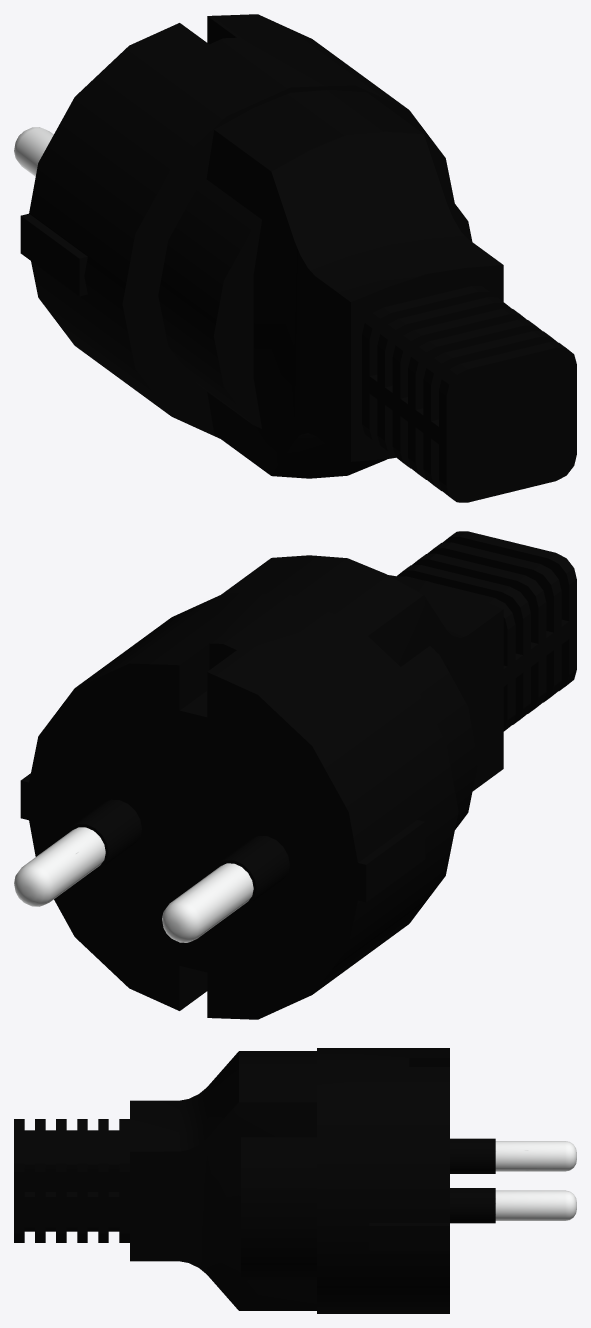
The model's file is Kabel Power1.fbx.
3 views of the same model, one above another, from view 1: azimuth 30°, elevation 25°; view 2: azimuth 150°, elevation 25°; view 3: azimuth 270°, elevation 25° (orthographic). The views are drawn at different scales.
Visible parts, largest first — view 1: Plane, Cylinder, Cube, Cylinder.002, Cube.003, Cylinder.001; view 2: Cylinder, Plane, Cube, Cylinder.001, Cylinder.002, Cube.003; view 3: Cylinder, Plane, Cube, Cylinder.002, Cylinder.001, Cube.003.
Part boxes in pixels (box(x1,y1,x2,y2)): Plane: box(206, 90, 503, 478); Cylinder: box(29, 14, 454, 438); Cube: box(362, 286, 576, 502); Cylinder.002: box(158, 179, 472, 428); Cube.003: box(20, 213, 87, 296); Cylinder.001: box(14, 127, 53, 176); Cylinder: box(29, 592, 458, 1019); Plane: box(221, 555, 503, 791); Cube: box(397, 531, 576, 731); Cylinder.001: box(14, 799, 289, 942); Cylinder.002: box(401, 646, 478, 829); Cube.003: box(20, 773, 425, 902); Cylinder: box(317, 1048, 449, 1313); Plane: box(130, 1051, 316, 1310); Cube: box(14, 1119, 129, 1242); Cylinder.002: box(241, 1137, 316, 1280); Cylinder.001: box(450, 1138, 576, 1223); Cube.003: box(369, 1223, 449, 1251).
Size of the model in its own units: 6.43 by 6.25 by 13.24.
1 material, 1 textured.
